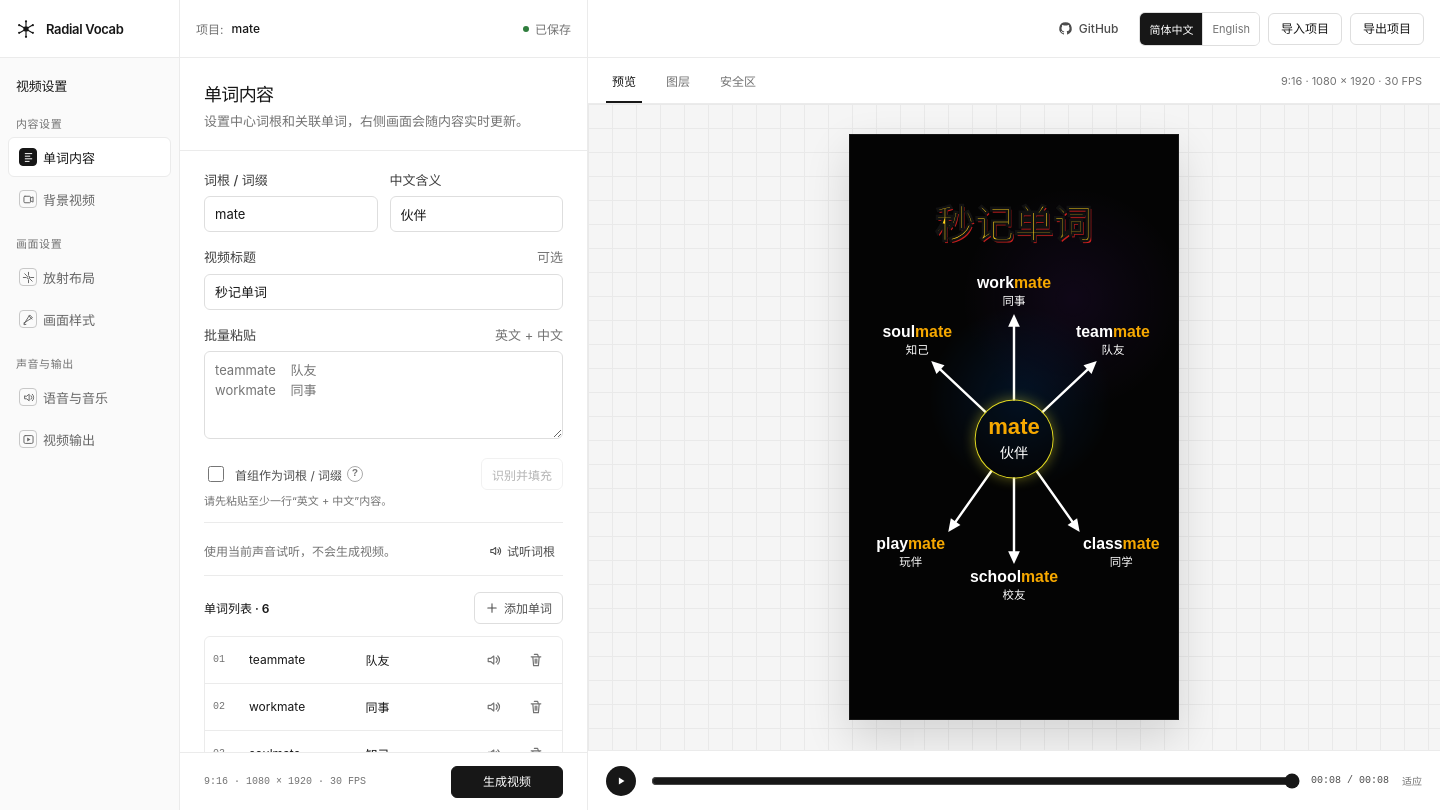
Test case: three-column editor › disables generation and explains how many settings need attention
The image size is (1440, 810).
Clear the field named "中文 1": (413, 660) [358,644,468,676]
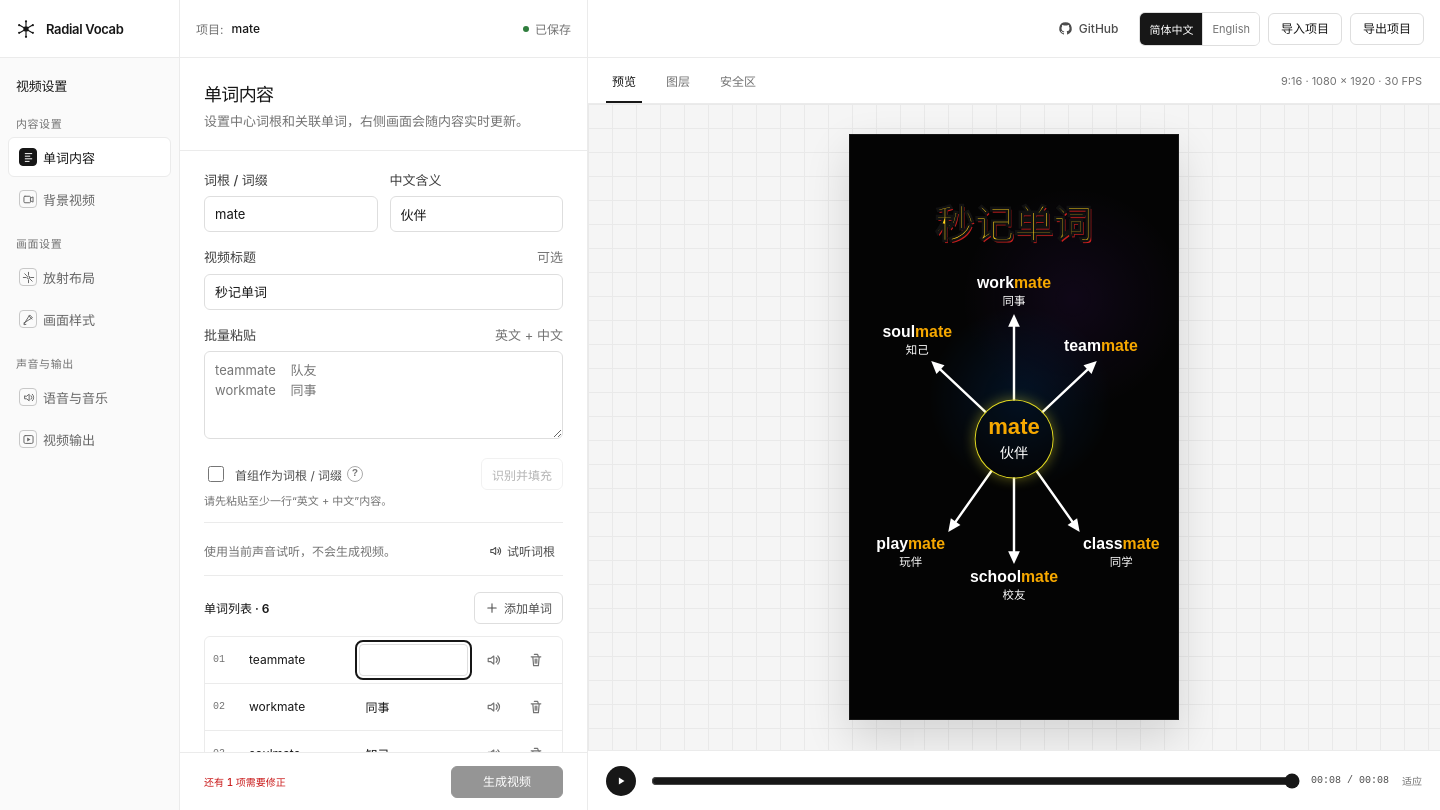
Result: the button "生成视频" is disabled at [451,766,563,798]
Result: the text "还有 1 项需要修正" is shown at [204,774,286,789]
